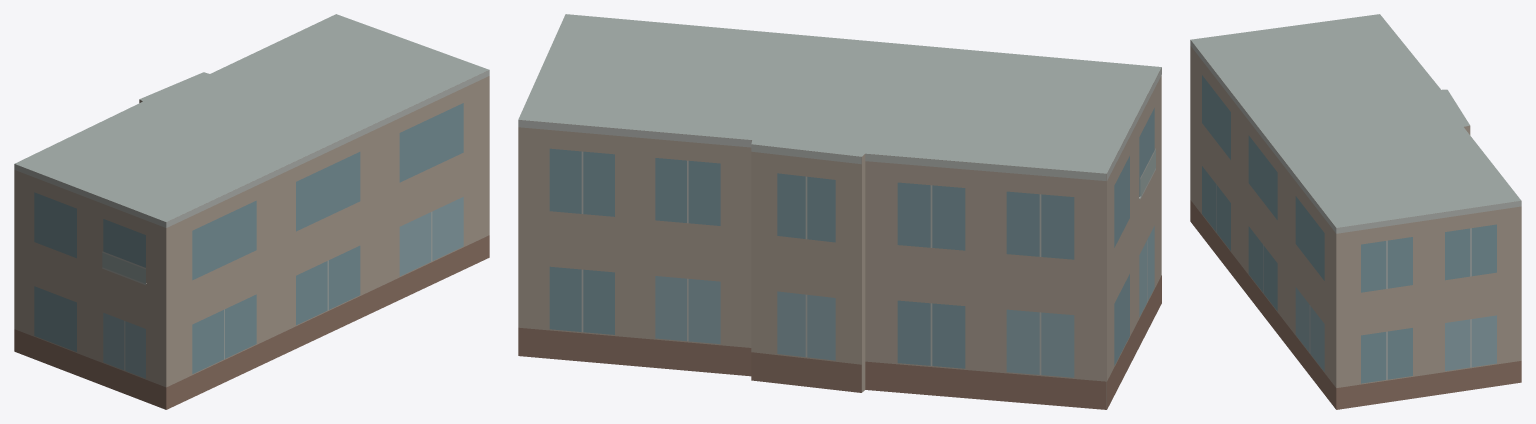
The model's file is survey-upis-32624071.glb.
The picture shows the model from 3 angles, left to right: view 1: azimuth 30°, elevation 25°; view 2: azimuth 150°, elevation 25°; view 3: azimuth 270°, elevation 25°; orthographic projection. The views are drawn at different scales.
Visible parts, largest first — view 1: survey-upis-32624071.tmp; view 2: survey-upis-32624071.tmp; view 3: survey-upis-32624071.tmp.
Boxes of the visible parts, <box> form: survey-upis-32624071.tmp: <box>14,14,489,409</box>; survey-upis-32624071.tmp: <box>518,14,1161,409</box>; survey-upis-32624071.tmp: <box>1190,14,1521,409</box>.
Bounding box in the file's own units: 19.45 × 7.7 × 12.71.
